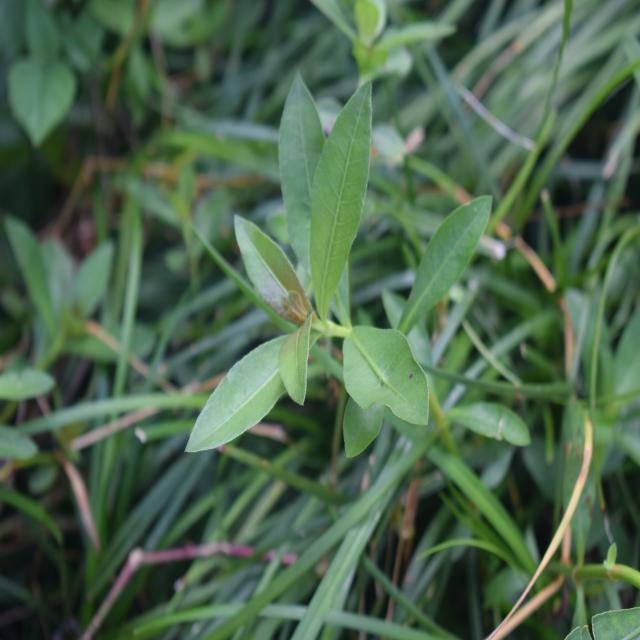Alligatorweed: (192, 81, 446, 487)
